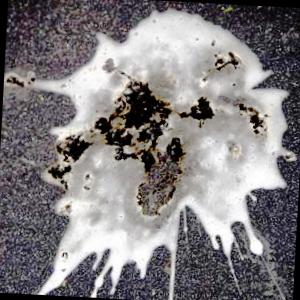Bird Poop: (6, 10, 295, 300)
